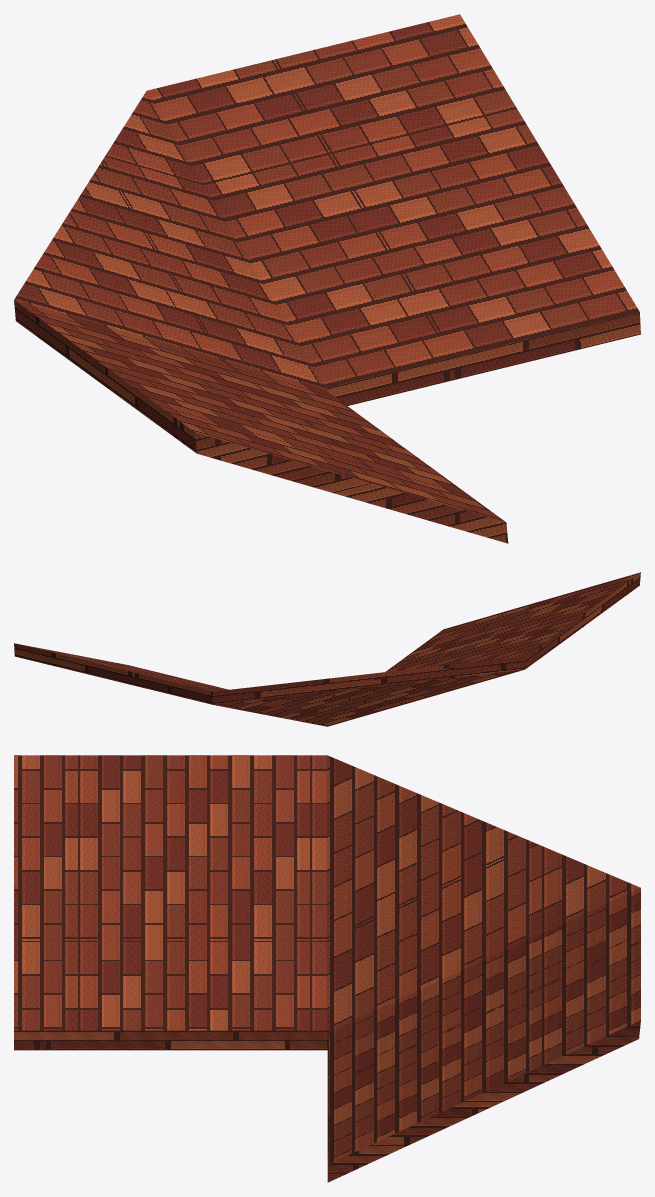
Rendered from byzantine terracotta roof corner.glb.
3 renders of one model, top to bottom at view 1: azimuth 30°, elevation 25°; view 2: azimuth 150°, elevation 25°; view 3: azimuth 270°, elevation 25°, orthographic. The views are drawn at different scales.
Parts seen in each view (by area): view 1: ByzantineTerracottaRoofCorner; view 2: ByzantineTerracottaRoofCorner; view 3: ByzantineTerracottaRoofCorner.
Part boxes in pixels (x1,y1,x2,y2): ByzantineTerracottaRoofCorner: [14, 14, 640, 543]; ByzantineTerracottaRoofCorner: [14, 572, 640, 726]; ByzantineTerracottaRoofCorner: [14, 755, 640, 1182].
Size of the model in its own units: 2 by 0.5726 by 2.
Materials: 1 (1 with a texture image).
